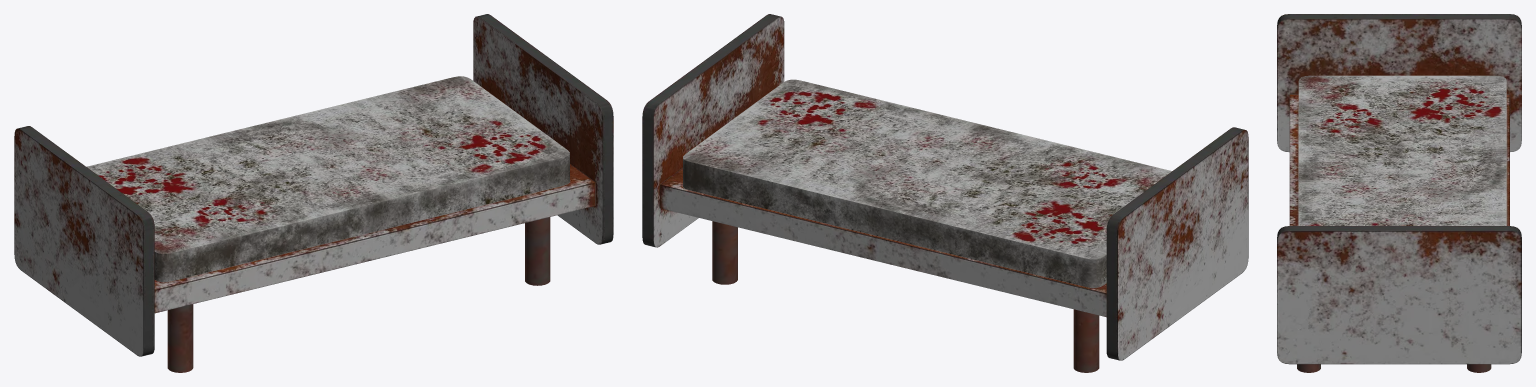
File: prop_bed_worn.glb
3 renders of one model, left to right at view 1: azimuth 30°, elevation 25°; view 2: azimuth 150°, elevation 25°; view 3: azimuth 270°, elevation 25°, orthographic. The views are drawn at different scales.
Visible parts, largest first — view 1: CAMA_Base_0; view 2: CAMA_Base_0; view 3: CAMA_Base_0.
Boxes of the visible parts, x1,y1,x2,y2 form: CAMA_Base_0: (14, 14, 613, 372); CAMA_Base_0: (642, 14, 1248, 372); CAMA_Base_0: (1277, 14, 1521, 372).
Bounding box in the file's own units: 2.05 × 0.7219 × 0.9762.
3 materials, 3 textured.
